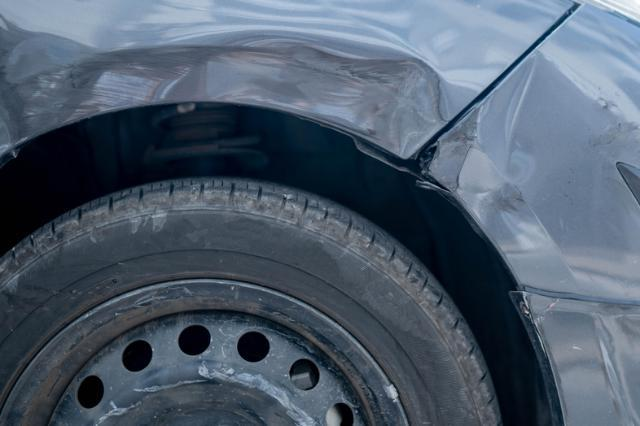Bumper: (445, 25, 640, 426)
Fender: (55, 15, 442, 150)
